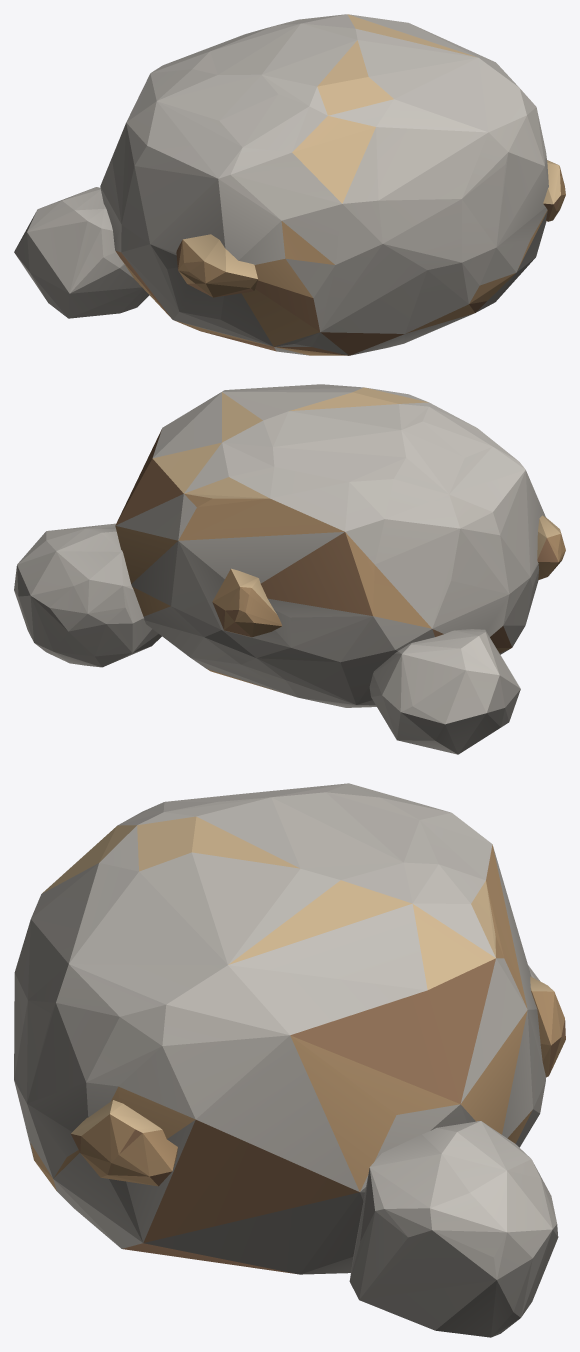
The model's file is quarry_rock_c.glb.
3 renders of one model, top to bottom at view 1: azimuth 30°, elevation 25°; view 2: azimuth 150°, elevation 25°; view 3: azimuth 270°, elevation 25°, orthographic. The views are drawn at different scales.
Size of the model in its own units: 2.01 by 0.9969 by 1.39.
